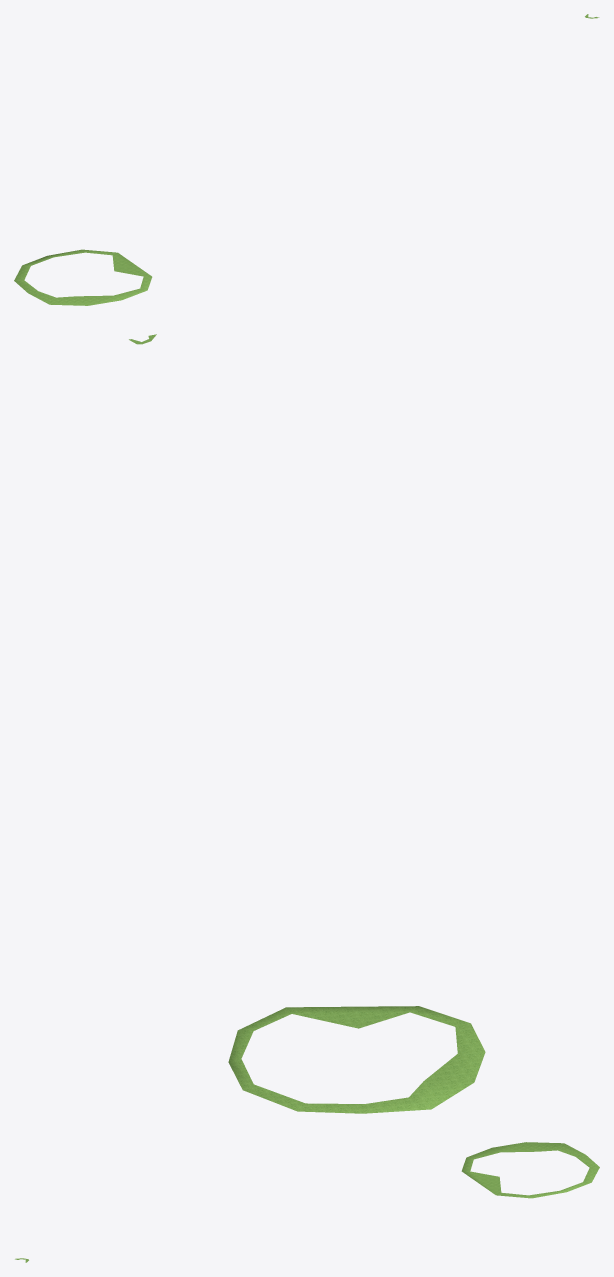
Rendered from kd_stage_1363c5_6_11.glb.
The picture shows the model from 3 angles, top to bottom: view 1: azimuth 90°, elevation 25°; view 2: azimuth 150°, elevation 25°; view 3: azimuth 270°, elevation 25°; orthographic projection. The views are drawn at different scales.
Parts seen in each view (by area): view 1: kd_stage_1363c5_6_11; view 2: kd_stage_1363c5_6_11; view 3: kd_stage_1363c5_6_11.
Part boxes in pixels (x1,y1,x2,y2): kd_stage_1363c5_6_11: (14, 14, 599, 305); kd_stage_1363c5_6_11: (129, 334, 485, 1113); kd_stage_1363c5_6_11: (15, 1142, 599, 1262).
Bounding box in the file's own units: 147 × 28.42 × 176.
1 material, 1 textured.
